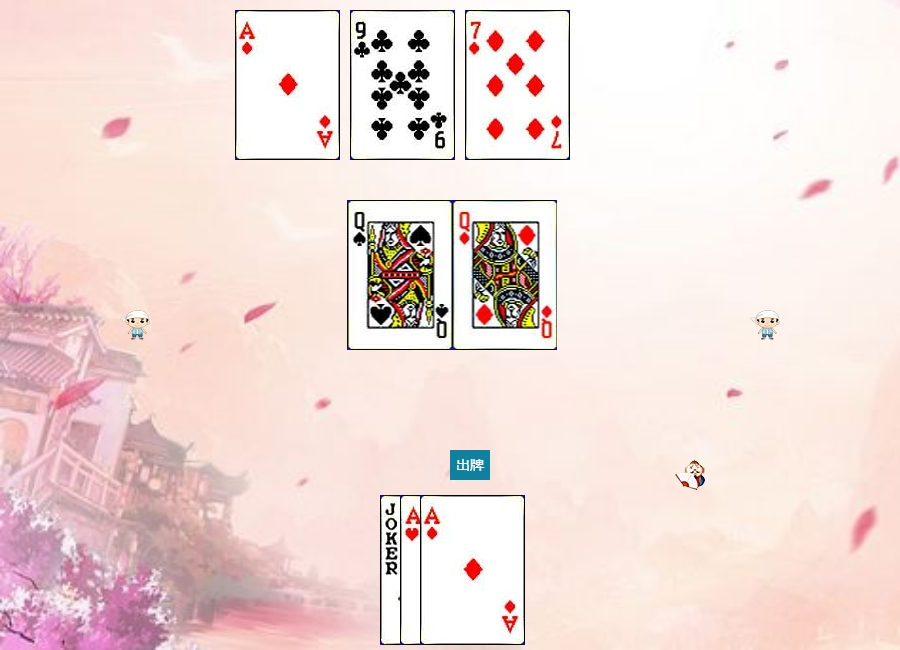12~1: (453, 200, 558, 350)
12~4: (348, 200, 453, 350)
14~1: (235, 10, 340, 160), (420, 495, 525, 645)
14~3: (400, 495, 505, 645)
17~3: (380, 495, 485, 645)
7~1: (465, 10, 570, 160)
9~2: (350, 10, 455, 160)
